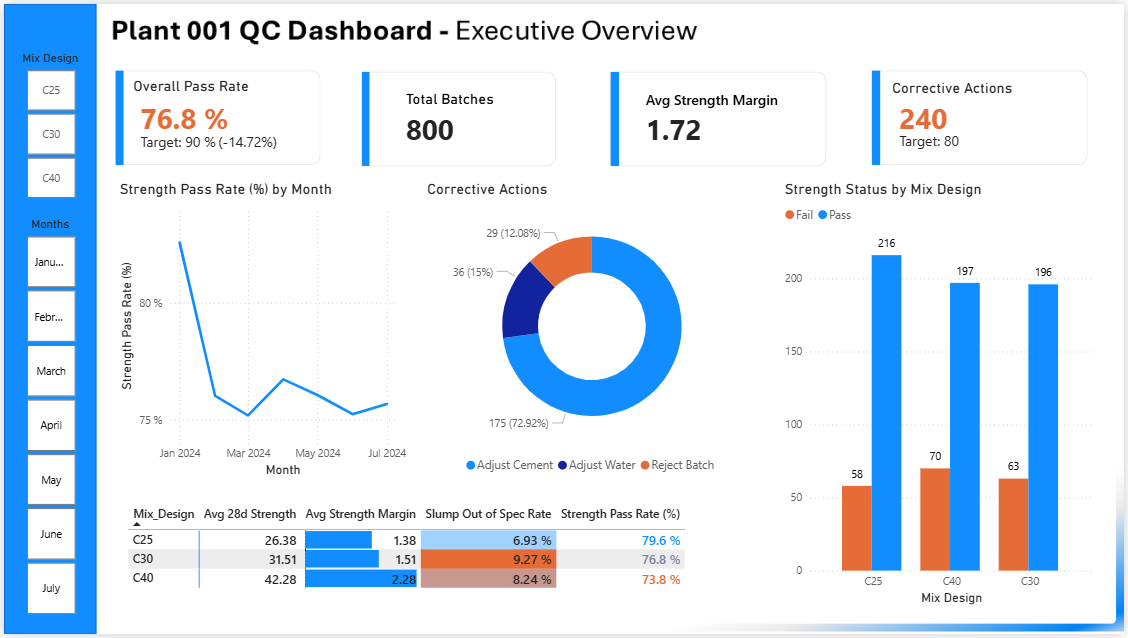

Layout of this report page (visuals, bound fields, positions):
{"tool":"powerbi","page":{"name":"Page 1","canvas":[1280,720],"ordinal":0},"visuals":[{"type":"shape","box":[0,0,105.7,720.4],"z":0},{"type":"shape","box":[127.2,75.5,234.6,108.4],"z":500,"group":"g1"},{"type":"shape","box":[991.1,75.5,247,108.4],"z":500,"group":"g4"},{"type":"shape","box":[408.5,76.8,222.3,108.4],"z":500,"group":"g2"},{"type":"shape","box":[693.3,76.8,247,108.4],"z":500,"group":"g3"},{"type":"group","id":"g1","title":"Group 1","box":[127.2,75.5,234.6,108.4],"z":1000},{"type":"shape","box":[127.2,75.5,9.9,108.4],"z":1000,"group":"g1"},{"type":"shape","box":[991.1,75.5,10.4,108.4],"z":1000,"group":"g4"},{"type":"shape","box":[408.5,76.8,9.3,108.4],"z":1000,"group":"g2"},{"type":"shape","box":[693.3,76.8,10.4,108.4],"z":1000,"group":"g3"},{"type":"kpi","title":"Overall Pass Rate ","fields":{"Indicator":["Dax Calculation.Overall Pass Rate"],"TrendLine":["cement_qc_cleaned.Date"],"Goal":["Dax Calculation.Pass Rate Target"]},"box":[142.3,82.7,190.7,96.1],"z":2000},{"type":"group","id":"g2","title":"Group 1","box":[408.5,76.8,222.3,108.4],"z":3000},{"type":"cardVisual","title":"Overall Pass Rate ","fields":{"Data":["Dax Calculation.Total batches"]},"box":[430.5,82.7,174.3,96.1],"z":4000},{"type":"group","id":"g3","title":"Group 1","box":[693.3,76.8,247,108.4],"z":5000},{"type":"cardVisual","title":"Overall Pass Rate ","fields":{"Data":["Dax Calculation.Avg Strength Margin"]},"box":[704.3,82.3,220.9,96.1],"z":6000},{"type":"group","id":"g4","title":"Group 1","box":[991.1,75.5,247,108.4],"z":7000},{"type":"kpi","title":"Corrective Actions","fields":{"TrendLine":["cement_qc_cleaned.Date"],"Goal":["Dax Calculation.Corrective target"],"Indicator":["Dax Calculation.Option2 Total corrective action"]},"box":[1010.3,85.1,207.2,90.6],"z":8000},{"type":"clusteredColumnChart","title":"Strength Status by Mix Design","fields":{"Category":["cement_qc_cleaned.Mix_Design"],"Series":["cement_qc_cleaned.Strength_Status"],"Y":["CountNonNull(cement_qc_cleaned.Strength_Status)"]},"box":[886.5,201.7,362.3,489.9],"z":9000},{"type":"donutChart","title":"Corrective Actions","fields":{"Category":["cement_qc_cleaned.Corrective_Action"],"Y":["CountNonNull(cement_qc_cleaned.Corrective_Action)"]},"box":[478.9,201.7,387,344.4],"z":10000},{"type":"lineChart","fields":{"Y":["Dax Calculation.Strength Pass Rate (%)"],"Category":["cement_qc_cleaned.Month"]},"box":[127.6,201.7,337.6,344.4],"z":11000},{"type":"slicer","title":"Months","fields":{"Values":["cement_qc_cleaned.Month"]},"box":[0,244.3,105.7,459.7],"z":12000},{"type":"slicer","title":"Mix Design","fields":{"Values":["cement_qc_cleaned.Mix_Design"]},"box":[0,54.9,105.7,174.3],"z":13000},{"type":"pivotTable","fields":{"Rows":["cement_qc_cleaned.Mix_Design"],"Values":["Dax Calculation.Avg 28d Strength","Dax Calculation.Avg Strength Margin","Dax Calculation.Slump Out of Spec Rate","Dax Calculation.Strength Pass Rate (%)"]},"box":[137.2,566.7,728.6,126.2],"z":14000}]}

Visuals, with their boxes in screenshot pixels (x1, y1, x2, y2), scaled from the page's 1280x720 canvas onto the 1128x638 screenshot:
shape: {"left": 0, "top": 0, "right": 93, "bottom": 637}
shape: {"left": 112, "top": 67, "right": 319, "bottom": 163}
shape: {"left": 873, "top": 67, "right": 1091, "bottom": 163}
shape: {"left": 360, "top": 68, "right": 556, "bottom": 164}
shape: {"left": 611, "top": 68, "right": 829, "bottom": 164}
"Group 1" group: {"left": 112, "top": 67, "right": 319, "bottom": 163}
shape: {"left": 112, "top": 67, "right": 121, "bottom": 163}
shape: {"left": 873, "top": 67, "right": 883, "bottom": 163}
shape: {"left": 360, "top": 68, "right": 368, "bottom": 164}
shape: {"left": 611, "top": 68, "right": 620, "bottom": 164}
"Overall Pass Rate " kpi: {"left": 125, "top": 73, "right": 293, "bottom": 158}
"Group 1" group: {"left": 360, "top": 68, "right": 556, "bottom": 164}
"Overall Pass Rate " cardVisual: {"left": 379, "top": 73, "right": 533, "bottom": 158}
"Group 1" group: {"left": 611, "top": 68, "right": 829, "bottom": 164}
"Overall Pass Rate " cardVisual: {"left": 621, "top": 73, "right": 815, "bottom": 158}
"Group 1" group: {"left": 873, "top": 67, "right": 1091, "bottom": 163}
"Corrective Actions" kpi: {"left": 890, "top": 75, "right": 1073, "bottom": 156}
"Strength Status by Mix Design" clusteredColumnChart: {"left": 781, "top": 179, "right": 1101, "bottom": 613}
"Corrective Actions" donutChart: {"left": 422, "top": 179, "right": 763, "bottom": 484}
lineChart - Dax Calculation.Strength Pass Rate (%) x cement_qc_cleaned.Month: {"left": 112, "top": 179, "right": 410, "bottom": 484}
"Months" slicer: {"left": 0, "top": 216, "right": 93, "bottom": 624}
"Mix Design" slicer: {"left": 0, "top": 49, "right": 93, "bottom": 203}
pivotTable - cement_qc_cleaned.Mix_Design x Dax Calculation.Avg 28d Strength: {"left": 121, "top": 502, "right": 763, "bottom": 614}
